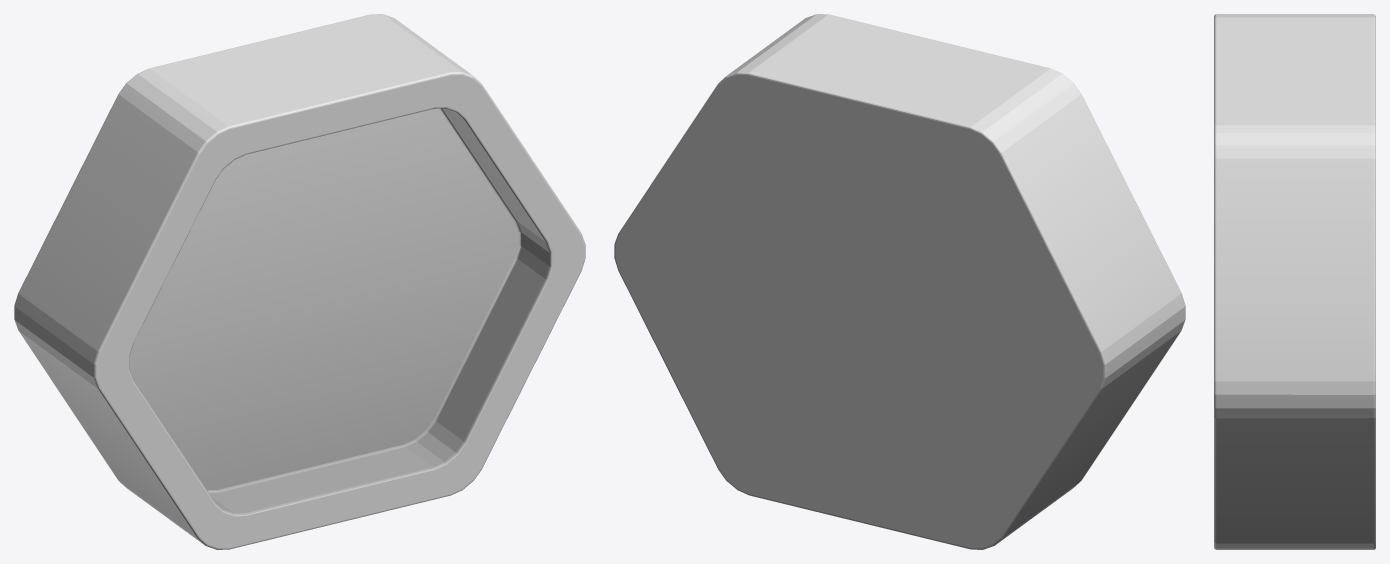
File: placeholder hexagon.fbx
3 renders of one model, left to right at view 1: azimuth 30°, elevation 25°; view 2: azimuth 150°, elevation 25°; view 3: azimuth 270°, elevation 25°, orthographic.
Visible parts, largest first — view 1: placeholder; view 2: placeholder; view 3: placeholder.
Boxes of the visible parts, bbox=[...] form: placeholder: bbox=[14, 14, 585, 549]; placeholder: bbox=[614, 14, 1185, 549]; placeholder: bbox=[1214, 14, 1375, 549].
Size of the model in its own units: 4.87 by 4 by 1.39.
